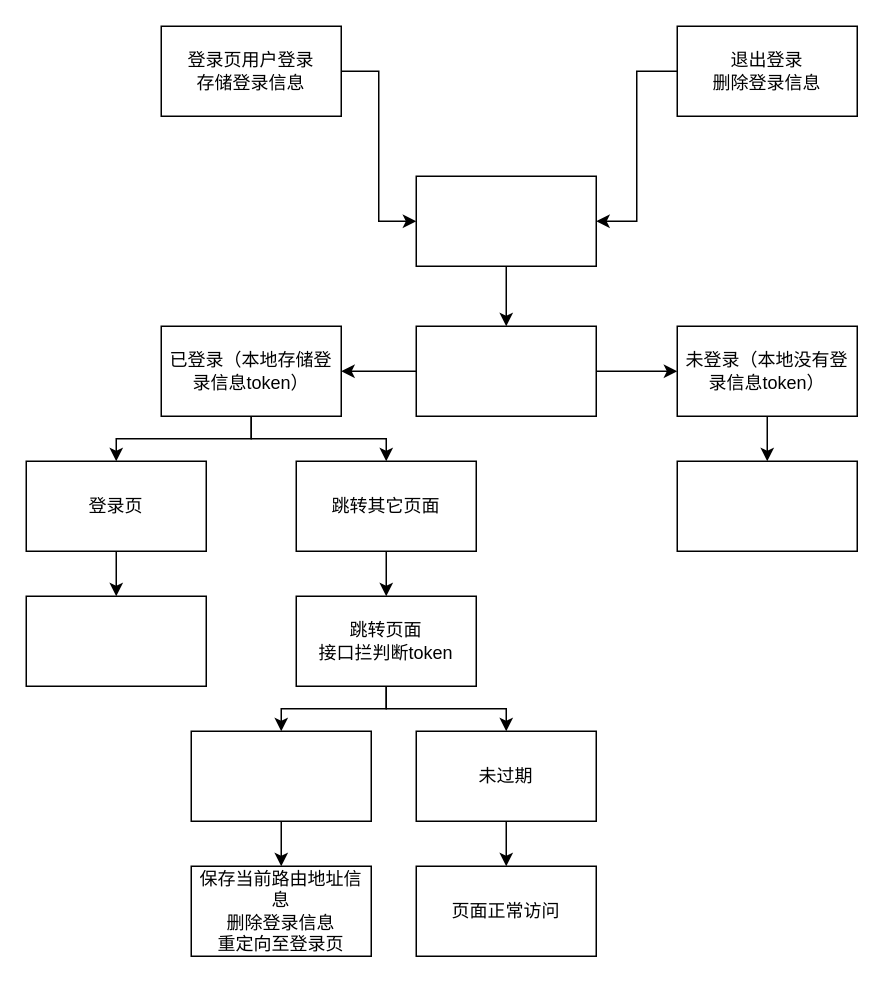
Some shapes in this 884 by 983 pixel diagram are drawn without their labels. The shapes that lost their labels are listed below. From the top down, each one's box as (x1, y1, x2, y2) in pixels, then its label:
(415, 175, 596, 266): 路由守卫验证用户登录
(415, 325, 596, 416): 跳转页面
(676, 460, 857, 551): 跳转至登录页
(25, 595, 206, 686): 删除登录信息 正常访问
(190, 730, 371, 821): 过期
